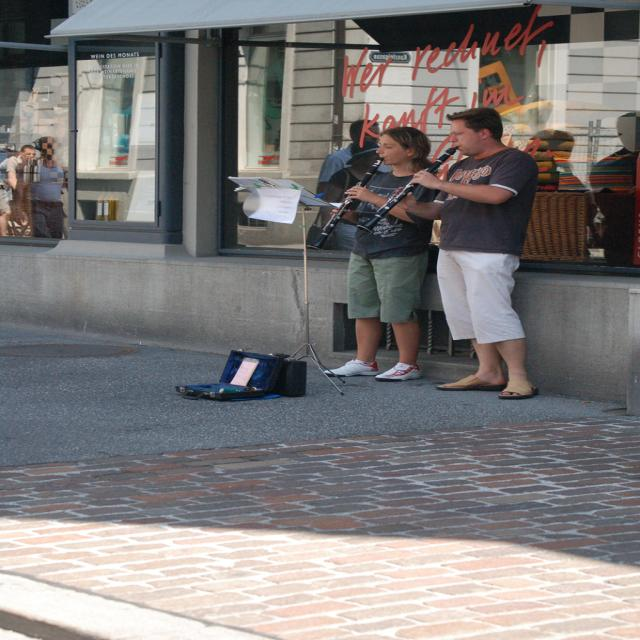clarinet: (351, 148, 465, 235), (308, 154, 389, 251)
